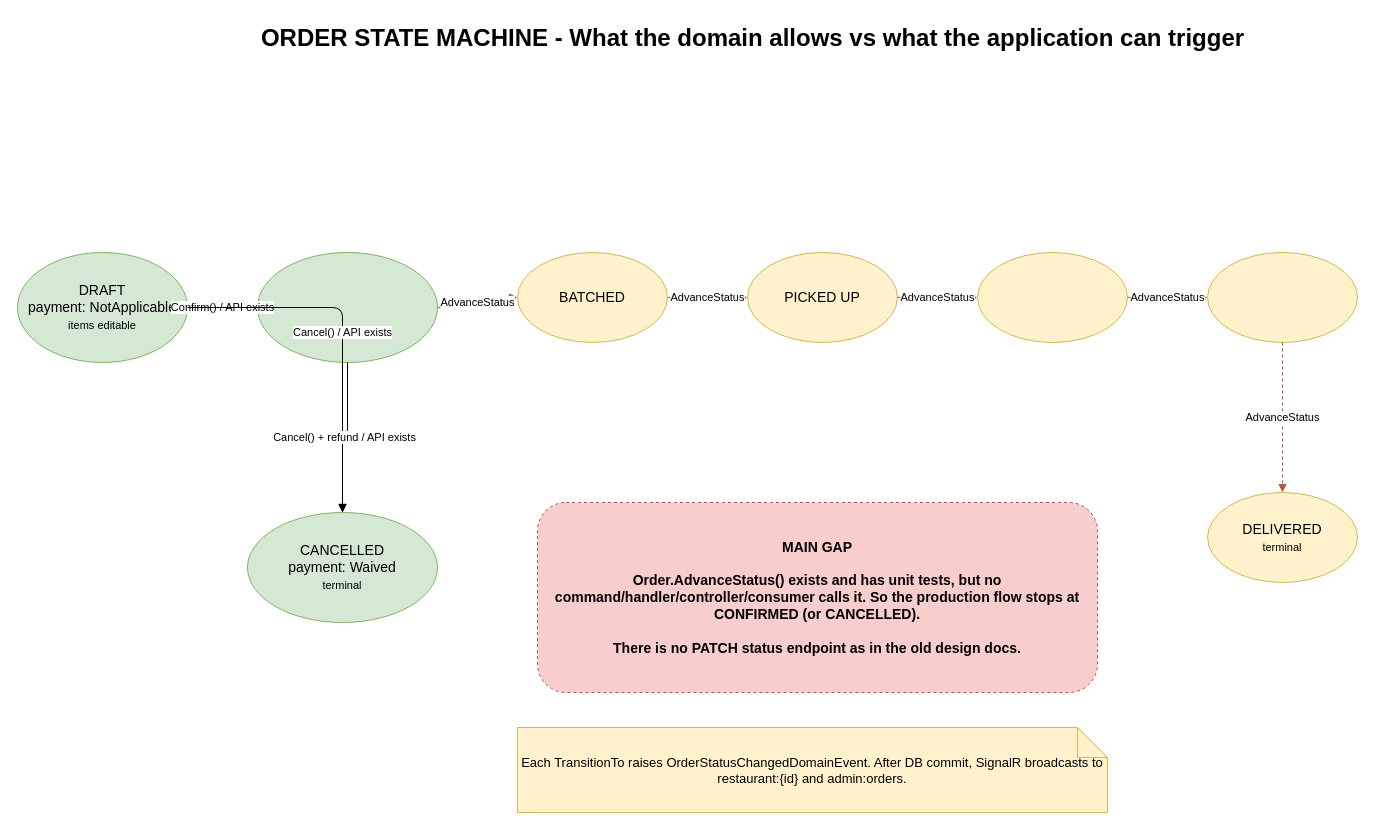
The diagram is 1375 pixels wide and 830 high, and some of its shapes have lost their labels. The box of each missing label's shape, as (x1, y1, x2, y2) in pixels:
AT HUB: (976, 252, 1128, 342)
CONFIRMED payment: Outstanding price locked: (256, 252, 438, 362)
DELIVERING: (1206, 252, 1358, 342)
